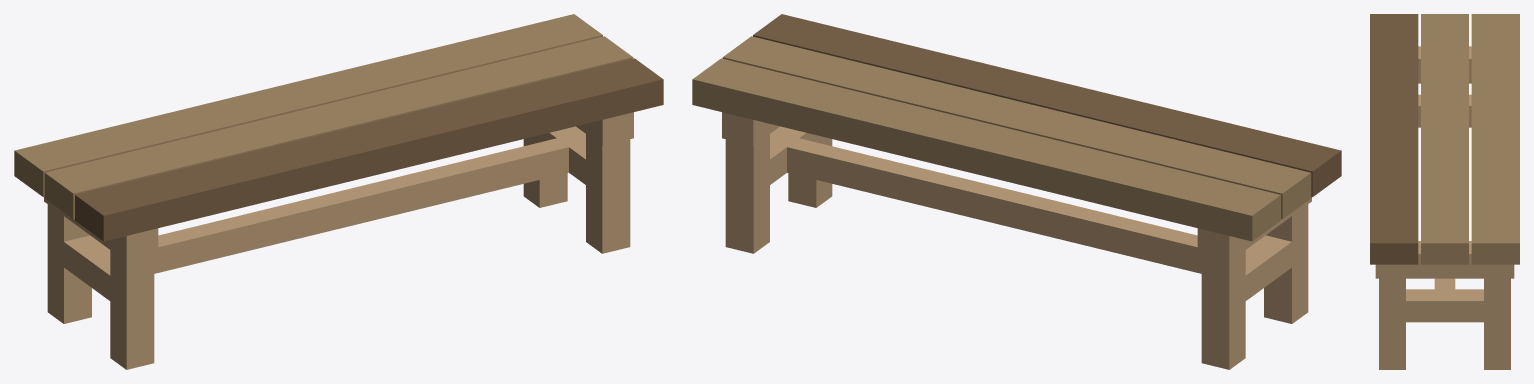
File: TW_BENCH_SIMPLE_A_LOD0.glb
The picture shows the model from 3 angles, left to right: view 1: azimuth 30°, elevation 25°; view 2: azimuth 150°, elevation 25°; view 3: azimuth 270°, elevation 25°; orthographic projection. The views are drawn at different scales.
Visible parts, largest first — view 1: TW_BENCH_SIMPLE_A_LOD0; view 2: TW_BENCH_SIMPLE_A_LOD0; view 3: TW_BENCH_SIMPLE_A_LOD0.
Boxes of the visible parts, x1,y1,x2,y2 form: TW_BENCH_SIMPLE_A_LOD0: [14, 14, 663, 369]; TW_BENCH_SIMPLE_A_LOD0: [692, 14, 1341, 369]; TW_BENCH_SIMPLE_A_LOD0: [1370, 14, 1519, 369].
Bounding box in the file's own units: 1.6 × 0.45 × 0.442.
Materials: 1 (1 with a texture image).
